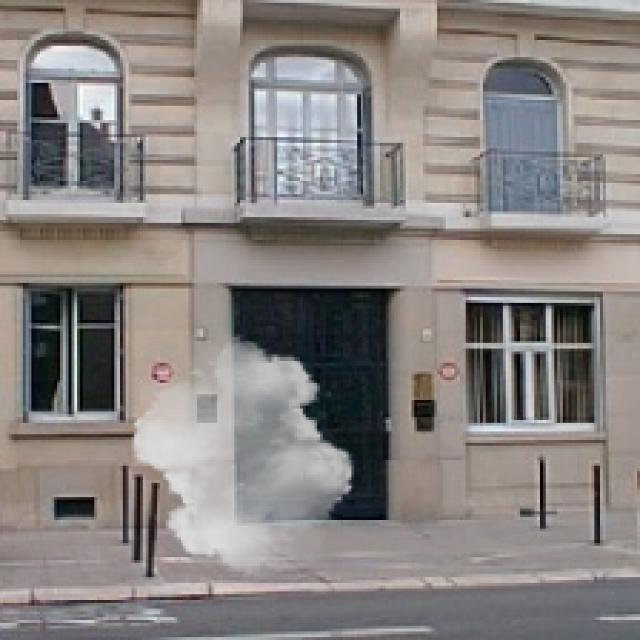smoke: (123, 334, 363, 577)
